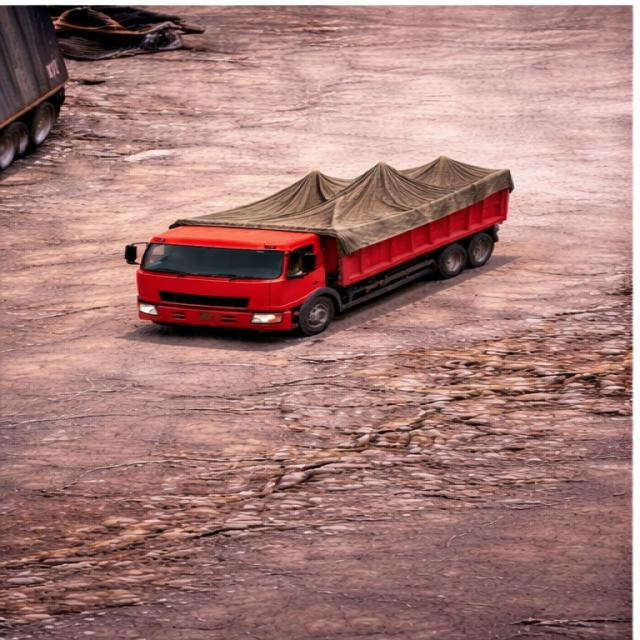Box: (177, 156, 525, 226)
Truck: (118, 137, 557, 336)
